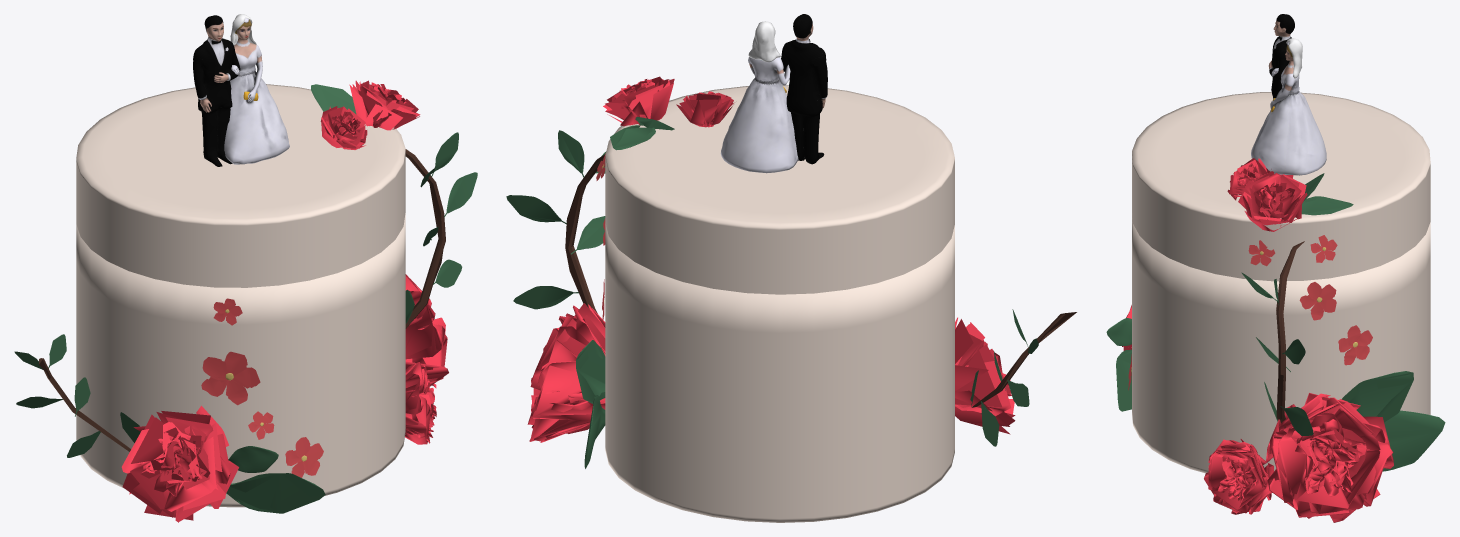
Rendered from 1-tier-white-roses-bridegroom.glb.
The picture shows the model from 3 angles, left to right: view 1: azimuth 30°, elevation 25°; view 2: azimuth 150°, elevation 25°; view 3: azimuth 270°, elevation 25°; orthographic projection. The views are drawn at different scales.
Parts seen in each view (by area): view 1: Cylinder.019, 13501_Cake_Topper_Bride_Groom_v1_L1.004, grid.039, Plane.083, Plane.074, Plane.075, grid.038, grid.041, grid.033, Sphere.050, grid.035, Sphere.054 (+2 smaller); view 2: Cylinder.019, 13501_Cake_Topper_Bride_Groom_v1_L1.004, grid.038, Plane.083, grid.039, grid.041, Plane.075, Plane.079, grid.035, Plane.086, Plane.080; view 3: Cylinder.019, grid.038, 13501_Cake_Topper_Bride_Groom_v1_L1.004, grid.033, grid.041, Plane.083, Plane.080, Plane.079, Sphere.057, Sphere.059, Plane.074, grid.035 (+4 smaller).
Part boxes in pixels (box(x1,y1,x2,y2)): Cylinder.019: box(76, 84, 405, 507); 13501_Cake_Topper_Bride_Groom_v1_L1.004: box(193, 14, 289, 166); grid.039: box(121, 405, 238, 522); Plane.083: box(405, 132, 477, 328); Plane.074: box(226, 473, 325, 513); Plane.075: box(14, 334, 140, 457); grid.038: box(405, 274, 448, 388); grid.041: box(349, 80, 420, 130); grid.033: box(405, 362, 436, 444); Sphere.050: box(201, 351, 260, 405); grid.035: box(320, 106, 367, 149); Sphere.054: box(285, 437, 323, 477); Cylinder.019: box(605, 85, 954, 522); 13501_Cake_Topper_Bride_Groom_v1_L1.004: box(720, 14, 827, 173); grid.038: box(527, 303, 605, 442); Plane.083: box(506, 130, 606, 313); grid.039: box(955, 317, 1015, 434); grid.041: box(603, 76, 674, 126); Plane.075: box(970, 309, 1076, 446); Plane.079: box(576, 340, 605, 403); grid.035: box(676, 91, 734, 127); Plane.086: box(610, 125, 655, 150); Plane.080: box(584, 395, 605, 468); Cylinder.019: box(1132, 92, 1430, 473); grid.038: box(1266, 393, 1393, 522); 13501_Cake_Topper_Bride_Groom_v1_L1.004: box(1251, 14, 1326, 175); grid.033: box(1204, 439, 1273, 514); grid.041: box(1238, 171, 1307, 231); Plane.083: box(1241, 241, 1313, 435); Plane.080: box(1382, 410, 1445, 471); Plane.079: box(1341, 371, 1413, 422); Sphere.057: box(1299, 282, 1336, 320); Sphere.059: box(1338, 325, 1372, 365); Plane.074: box(1116, 349, 1131, 411); grid.035: box(1227, 158, 1271, 200).
Bounding box in the file's own units: 4.49 × 3.93 × 2.9.
Materials: 7 (1 with a texture image).
